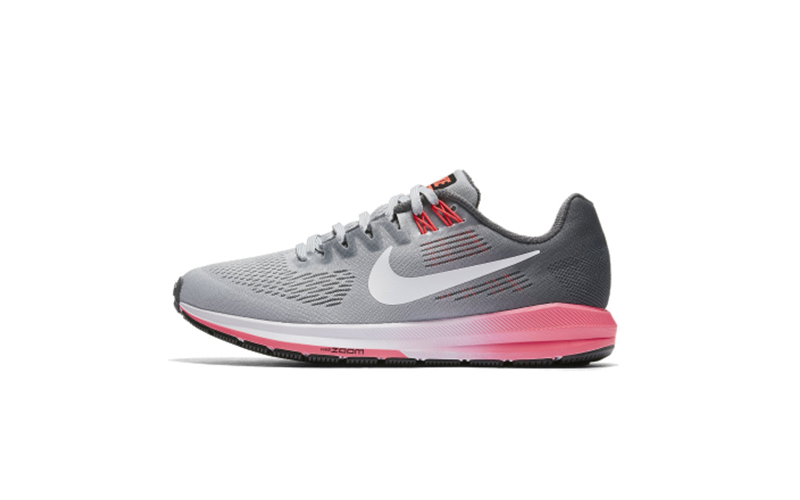nike: (363, 241, 549, 307)
